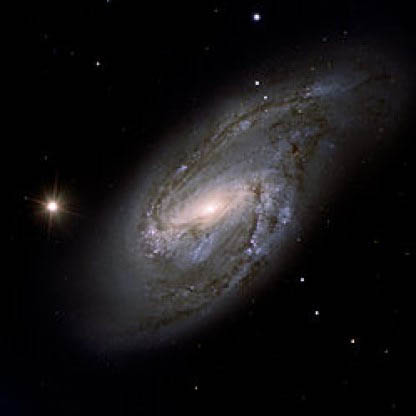Messier 66: (37, 48, 388, 343)
